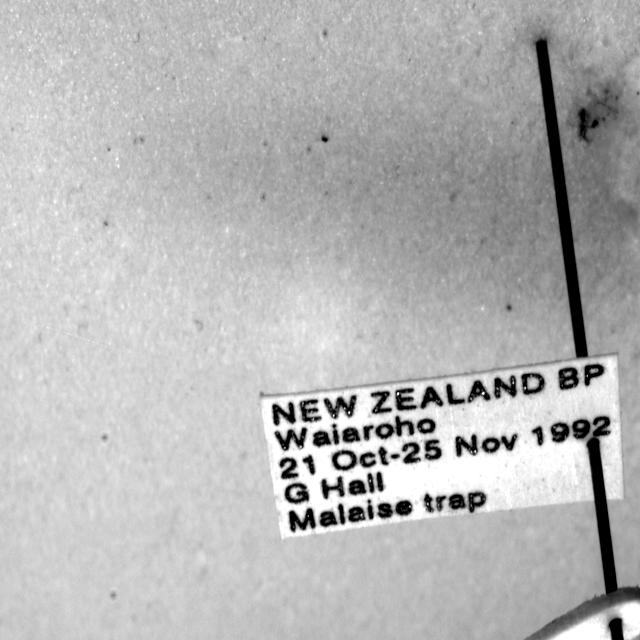typed_label: (260, 354, 624, 538)
